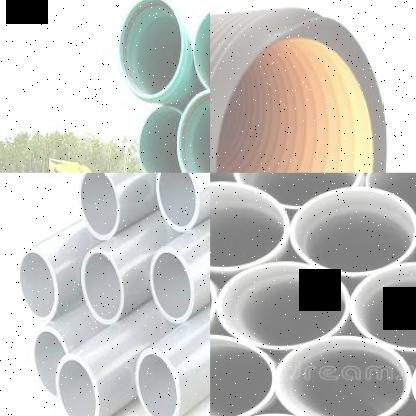pipe: (212, 15, 377, 173), (216, 261, 351, 350), (290, 187, 416, 276), (274, 336, 411, 416), (210, 182, 289, 271), (118, 0, 184, 98), (350, 261, 416, 351), (210, 335, 275, 416), (233, 173, 364, 209), (150, 246, 195, 324), (17, 246, 59, 324), (82, 247, 124, 325), (135, 347, 180, 416), (138, 106, 184, 172), (78, 173, 120, 240), (31, 326, 69, 400), (177, 88, 210, 173), (56, 354, 100, 416), (155, 173, 200, 232), (365, 172, 416, 218), (194, 5, 210, 93)
